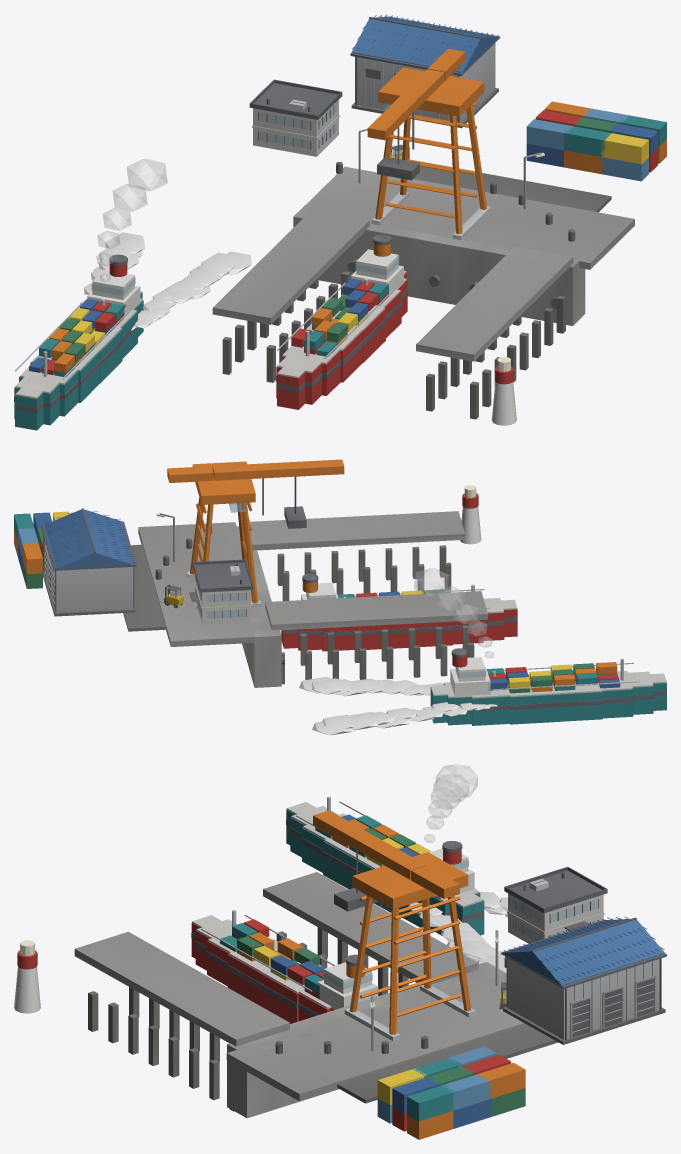
The model's file is Port_P2.fbx.
3 renders of one model, top to bottom at view 1: azimuth 30°, elevation 25°; view 2: azimuth 150°, elevation 25°; view 3: azimuth 270°, elevation 25°, orthographic. The views are drawn at different scales.
Visible parts, largest first — view 1: Port.Apron, Port.Pier1, Port.Ship0, Port.ShipOut, Port.Crane0, Port.Pier0, Port.QuayWall, Port.Shed, Port.Containers, Port.Control, Port.Wake, Port.ShipSmoke (+1 smaller); view 2: Port.ShipOut, Port.Pier0, Port.Apron, Port.Pier1, Port.Shed, Port.Crane0, Port.Ship0, Port.Wake, Port.Control, Port.QuayWall, Port.Containers, Port.ShipSmoke (+1 smaller); view 3: Port.Apron, Port.Shed, Port.Pier1, Port.Crane0, Port.Ship0, Port.Containers, Port.Pier0, Port.ShipOut, Port.Control, Port.QuayWall, Port.Wake, Port.ShipSmoke (+1 smaller).
Part boxes in pixels (x1,y1,x2,y2): Port.Apron: (300, 166, 634, 269); Port.Pier1: (416, 246, 573, 419); Port.Ship0: (276, 234, 407, 409); Port.ShipOut: (14, 254, 143, 430); Port.Crane0: (367, 48, 490, 239); Port.Pier0: (212, 209, 369, 382); Port.QuayWall: (293, 204, 585, 325); Port.Shed: (350, 14, 500, 128); Port.Containers: (526, 101, 666, 181); Port.Control: (249, 79, 342, 156); Port.Wake: (80, 232, 251, 330); Port.ShipSmoke: (96, 159, 167, 281); Port.ShipOut: (430, 648, 666, 725); Port.Pier0: (265, 591, 487, 684); Port.Apron: (123, 522, 261, 646); Port.Pier1: (250, 511, 464, 600); Port.Shed: (41, 508, 136, 616); Port.Crane0: (167, 459, 344, 610); Port.Ship0: (281, 573, 517, 651); Port.Wake: (299, 677, 497, 735); Port.Control: (189, 559, 253, 624); Port.QuayWall: (226, 526, 284, 687); Port.Containers: (14, 511, 69, 588); Port.ShipSmoke: (414, 568, 493, 658); Port.Apron: (226, 973, 558, 1103); Port.Shed: (501, 916, 666, 1044); Port.Pier1: (74, 931, 289, 1111); Port.Crane0: (313, 810, 475, 1041); Port.Ship0: (191, 910, 378, 1023); Port.Containers: (377, 1046, 525, 1139); Port.Pier0: (263, 872, 478, 995); Port.ShipOut: (286, 796, 484, 935); Port.Control: (504, 866, 607, 943); Port.QuayWall: (227, 962, 506, 1118); Port.Wake: (408, 888, 507, 972); Port.ShipSmoke: (424, 764, 477, 842).
Bounding box in the file's own units: 12895 × 3630 × 9697.
